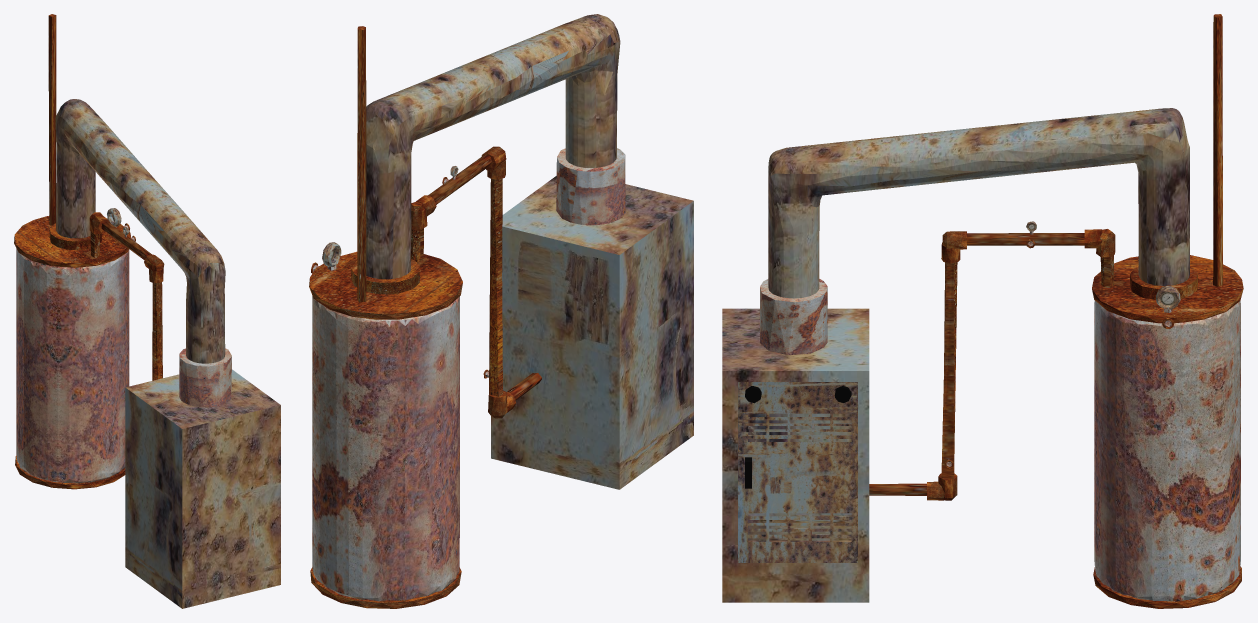
File: boiler2.fbx
3 views of the same model, side by side, from view 1: azimuth 30°, elevation 25°; view 2: azimuth 150°, elevation 25°; view 3: azimuth 270°, elevation 25° (orthographic). The views are drawn at different scales.
Visible parts, largest first — view 1: Torus.005; view 2: Torus.005; view 3: Torus.005.
Part boxes in pixels (left/top/right/bottom): Torus.005: left=14, top=14, right=280, bottom=608; Torus.005: left=309, top=14, right=693, bottom=608; Torus.005: left=722, top=14, right=1243, bottom=608.
Bounding box in the file's own units: 241 × 848 × 710.
Materials: 6 (5 with a texture image).
